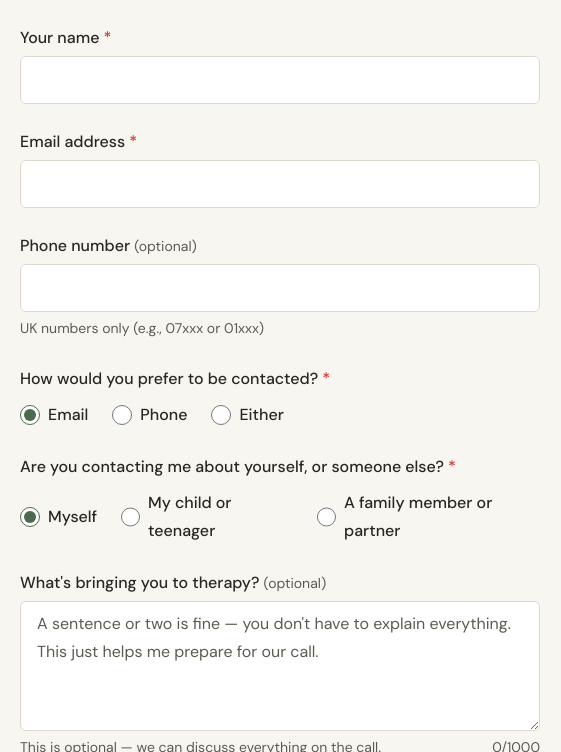
Scenario: ContactForm Component › Form Validation › requires phone number when contact method is phone
Type "John Doe" into the field labelled "Your name *". click: (280, 80)
box: [20, 56, 540, 104]
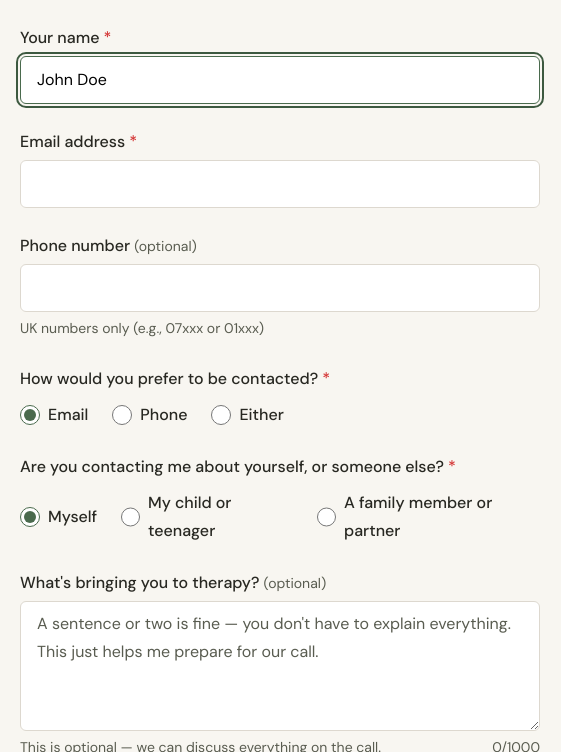
Type "john@example.com" into the field labelled "Email address *". click: (280, 184)
box: [20, 160, 540, 208]
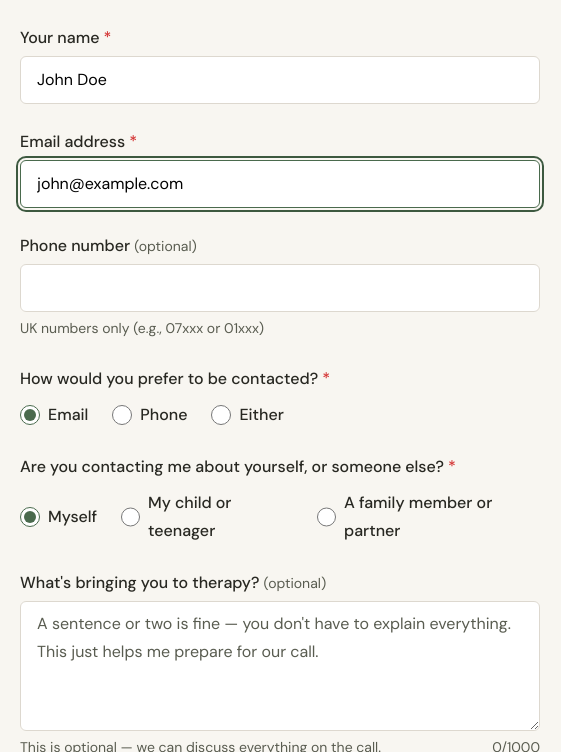
# Select phone as contact method but don't enter phone number
Click the radio button labelled "Phone". click: (122, 414)
box: [112, 404, 132, 424]
(page scrolled)
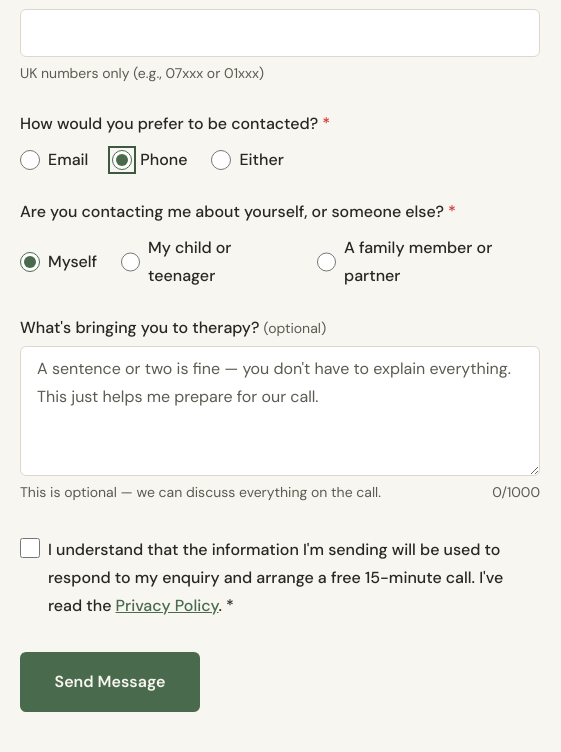
Click the checkbox. click: (30, 548)
box: [20, 538, 40, 558]
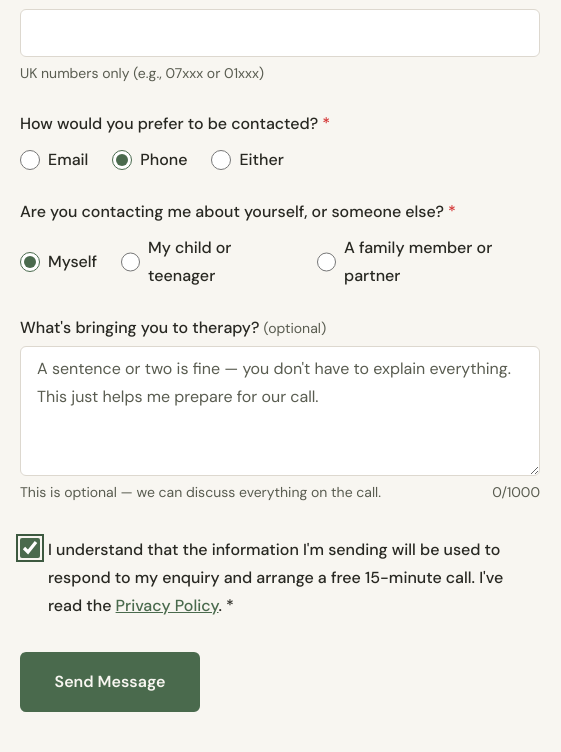
Click the button "Send Message". click: (110, 682)
box: [20, 652, 200, 712]
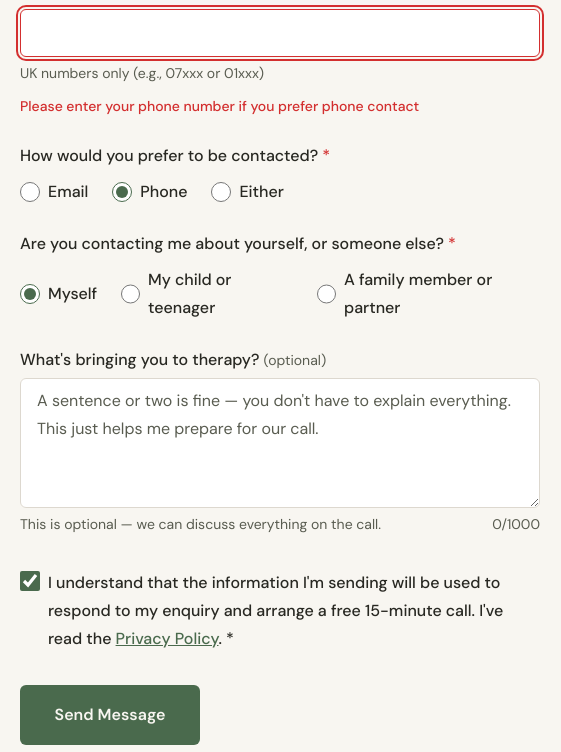
Result: the text "Please enter your phone number if you prefer phone contact" is shown at [20, 96, 419, 114]
